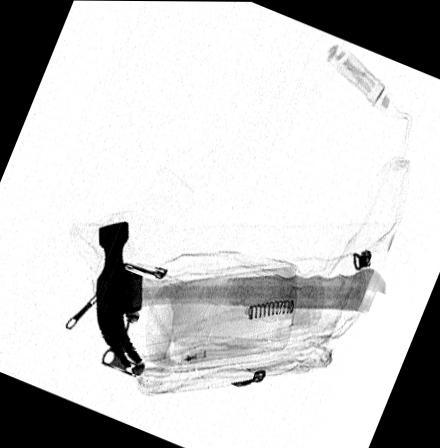Hammer: (95, 219, 388, 367)
